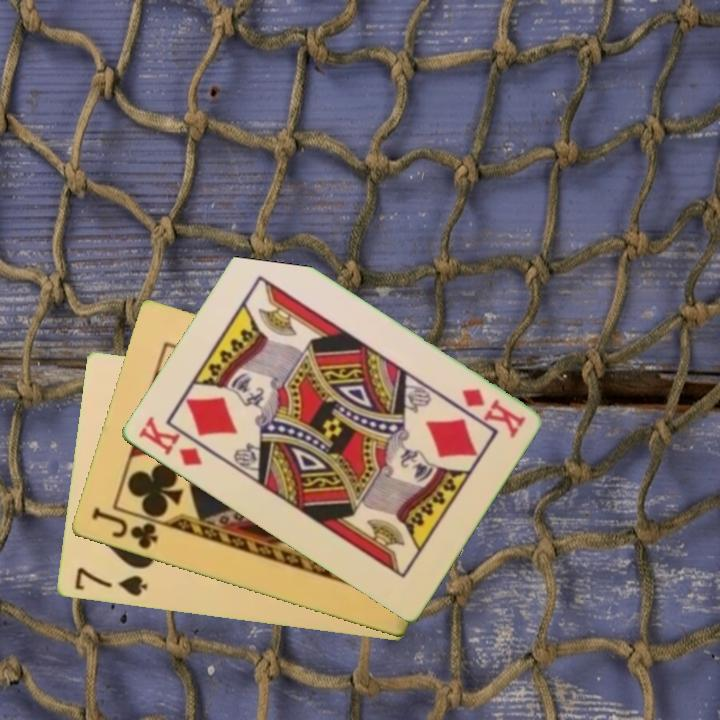7s: (70, 564, 150, 600)
Jc: (87, 504, 160, 553)
Kd: (134, 413, 205, 470), (457, 385, 528, 441)
